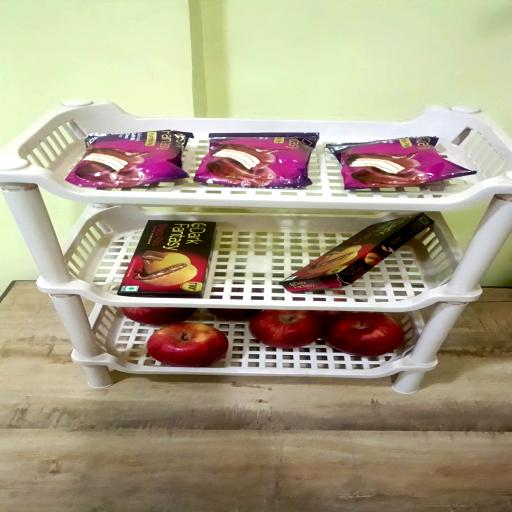Apple: (145, 322, 227, 368), (326, 313, 404, 357), (251, 310, 326, 348), (120, 308, 196, 327), (306, 311, 348, 327), (208, 309, 260, 321)
Choco Fills: (283, 215, 432, 294), (117, 222, 214, 298)
Choco Pie: (326, 135, 476, 189), (64, 132, 191, 192), (196, 131, 320, 187)
